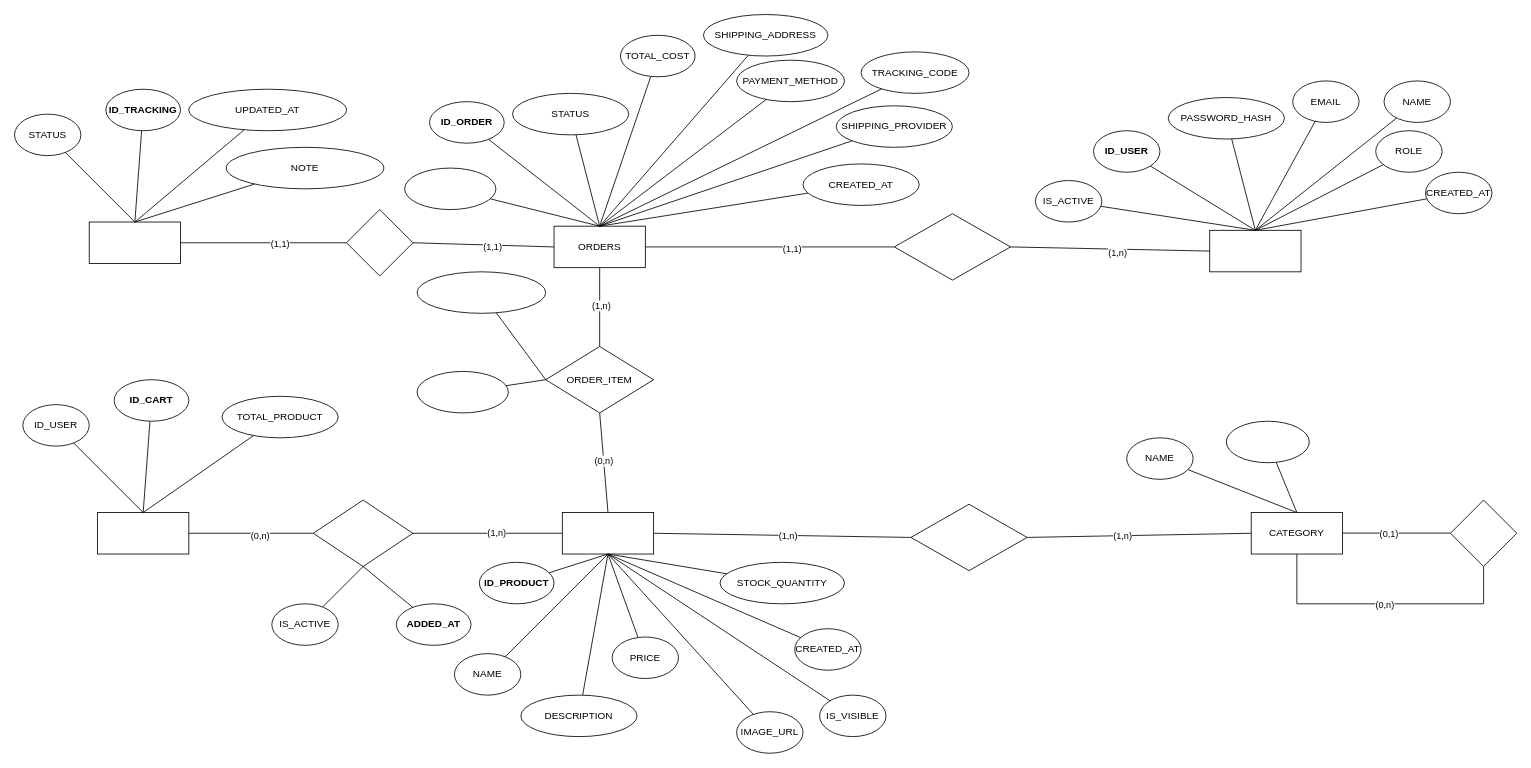
Some shapes in this 1531 by 768 pixel diagram are drawn without their labels. The shapes that lost their labels are listed below. From the top down, each one's centre as x and y in pixels, then its label:
At point 450,188: "ORDER_DATE".
At point 134,242: "ORDER_TRACKING".
At point 379,242: "HAS".
At point 952,246: "HAVE".
At point 1255,250: "USER".
At point 481,292: "PRICE_AT_ORDER_TIME".
At point 462,392: "QUANTITY".
At point 1267,441: "ID_CATEGORY".
At point 143,533: "CART".
At point 362,532: "CART_ITEM".
At point 607,533: "PRODUCT".
At point 968,537: "ProductCategory".
At point 1483,532: "is_part_of".
